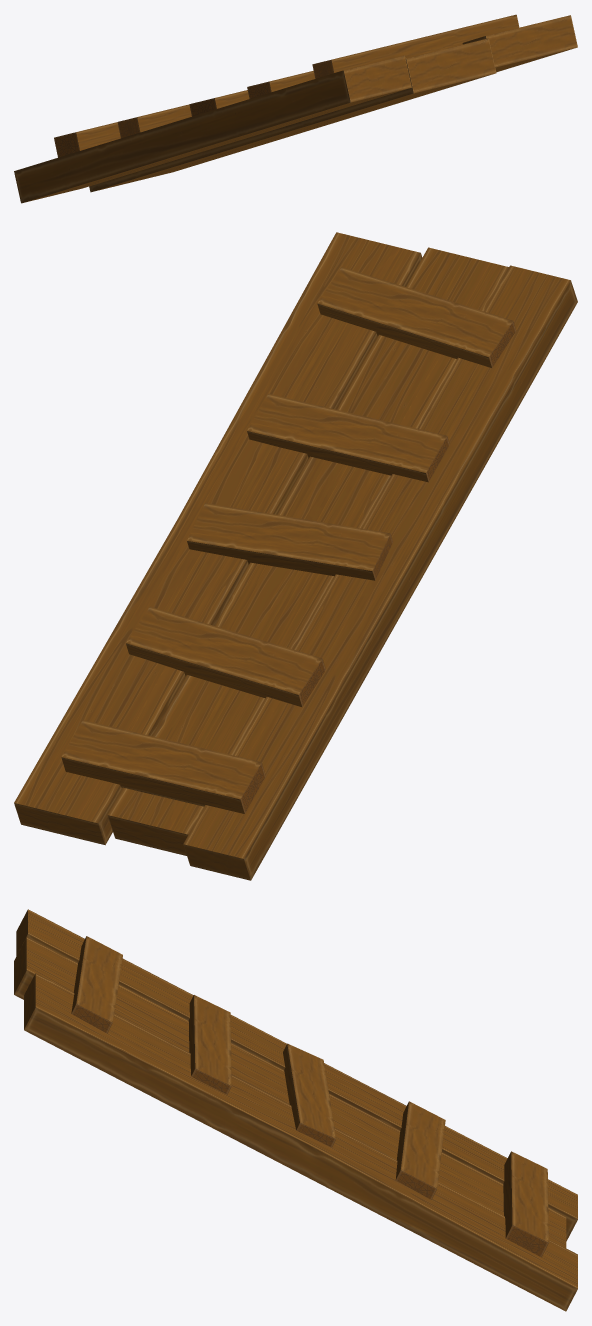
The model's file is SM_Chicken_Platform.fbx.
The picture shows the model from 3 angles, top to bottom: view 1: azimuth 30°, elevation 25°; view 2: azimuth 150°, elevation 25°; view 3: azimuth 270°, elevation 25°; orthographic projection. The views are drawn at different scales.
Visible parts, largest first — view 1: SM_Chicken_Platform_LOD0; view 2: SM_Chicken_Platform_LOD0; view 3: SM_Chicken_Platform_LOD0.
Part boxes in pixels (x1=…): SM_Chicken_Platform_LOD0: x1=14, y1=14, x2=577, y2=203; SM_Chicken_Platform_LOD0: x1=14, y1=232, x2=577, y2=880; SM_Chicken_Platform_LOD0: x1=14, y1=909, x2=577, y2=1311.
Size of the model in its own units: 48.17 by 122 by 73.33.
